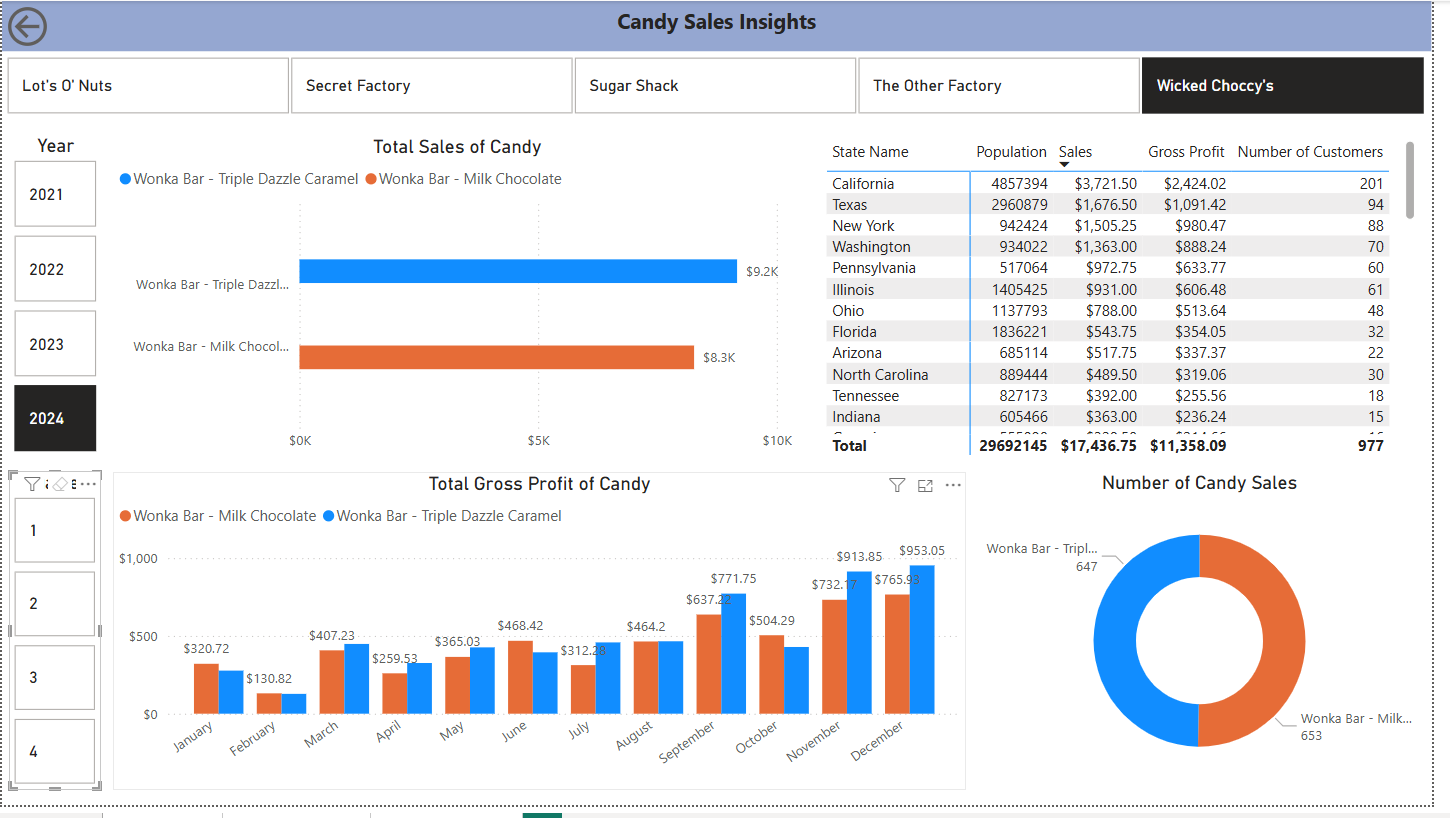

What the dashboard file says about the page in this screenshot:
{"tool":"powerbi","page":{"name":"Candy Sales Insights","canvas":[1280,720],"ordinal":2},"visuals":[{"type":"clusteredBarChart","title":"Total Sales of Candy","fields":{"Y":["Sum(candy_sales.sales)"],"Category":["candy_products.product_name"],"Series":["candy_products.product_name"]},"box":[99.1,119.7,616.6,291.8],"z":0},{"type":"clusteredColumnChart","title":"Total Gross Profit of Candy","fields":{"Y":["Sum(candy_sales.gross_profit)"],"Series":["candy_products.product_name"],"Category":["date_details.monthname"]},"box":[99.4,421.8,763.9,284.8],"z":1000},{"type":"donutChart","title":"Number of Candy Sales","fields":{"Y":["CountNonNull(candy_sales.sales)"],"Category":["candy_products.product_name"]},"box":[875.4,421.2,395,284.9],"z":2000},{"type":"advancedSlicerVisual","title":"Quarter","fields":{"Values":["date_details.quarter"]},"box":[6.3,420.9,82.4,285.7],"z":3000},{"type":"advancedSlicerVisual","title":"Year","fields":{"Values":["date_details.year"]},"box":[6.3,119.1,83.3,291.9],"z":4000},{"type":"textbox","box":[0,0,1280,45.4],"z":5000},{"type":"advancedSlicerVisual","title":"Factory","fields":{"Values":["candy_factories.factory"]},"box":[0,45.3,1280.2,60.5],"z":6000},{"type":"actionButton","box":[0,0,61.8,45.7],"z":7000},{"type":"pivotTable","title":"Total Sales of Candy","fields":{"Rows":["location_details.state_name"],"Values":["Sum(location_details.population)","Sum(candy_sales.sales)","Sum(candy_sales.gross_profit)","Count(candy_sales.customer_id)"]},"box":[733.6,119.7,536.8,291.8],"z":8000}]}

Visuals, with their boxes on the page's 1280x720 design canvas (x1, y1, x2, y2). These are canvas units, not pixel positions in the 1450x818 screenshot, which may show the page scaled, cropped or inside an application window:
"Total Sales of Candy" clusteredBarChart: [left=99, top=120, right=716, bottom=412]
"Total Gross Profit of Candy" clusteredColumnChart: [left=99, top=422, right=863, bottom=707]
"Number of Candy Sales" donutChart: [left=875, top=421, right=1270, bottom=706]
"Quarter" advancedSlicerVisual: [left=6, top=421, right=89, bottom=707]
"Year" advancedSlicerVisual: [left=6, top=119, right=90, bottom=411]
textbox: [left=0, top=0, right=1280, bottom=45]
"Factory" advancedSlicerVisual: [left=0, top=45, right=1280, bottom=106]
actionButton: [left=0, top=0, right=62, bottom=46]
"Total Sales of Candy" pivotTable: [left=734, top=120, right=1270, bottom=412]
